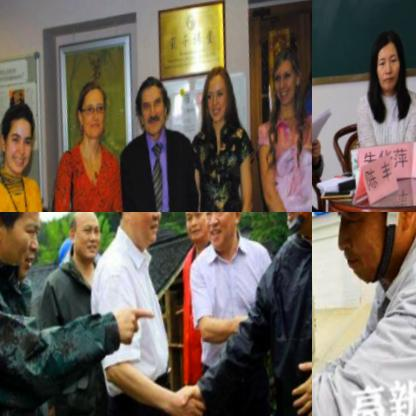head: (0, 101, 42, 174), (129, 74, 176, 136), (366, 28, 411, 92), (196, 64, 240, 127), (266, 44, 308, 109), (71, 78, 115, 140)
helmet: (312, 212, 416, 302)
